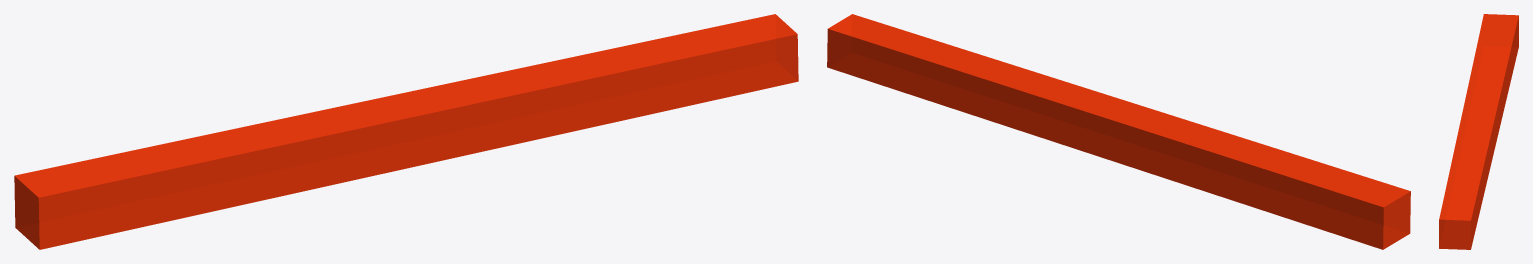
File: Event_421364160_EErechit_15.fbx
3 views of the same model, side by side, from view 1: azimuth 30°, elevation 25°; view 2: azimuth 150°, elevation 25°; view 3: azimuth 270°, elevation 25° (orthographic). The views are drawn at different scales.
Parts seen in each view (by area): view 1: Model; view 2: Model; view 3: Model.
Part boxes in pixels (x1=…): Model: x1=14, y1=14, x2=798, y2=249; Model: x1=827, y1=14, x2=1410, y2=249; Model: x1=1439, y1=14, x2=1518, y2=249.
Bounding box in the file's own units: 1.16 × 0.1017 × 0.1811.
